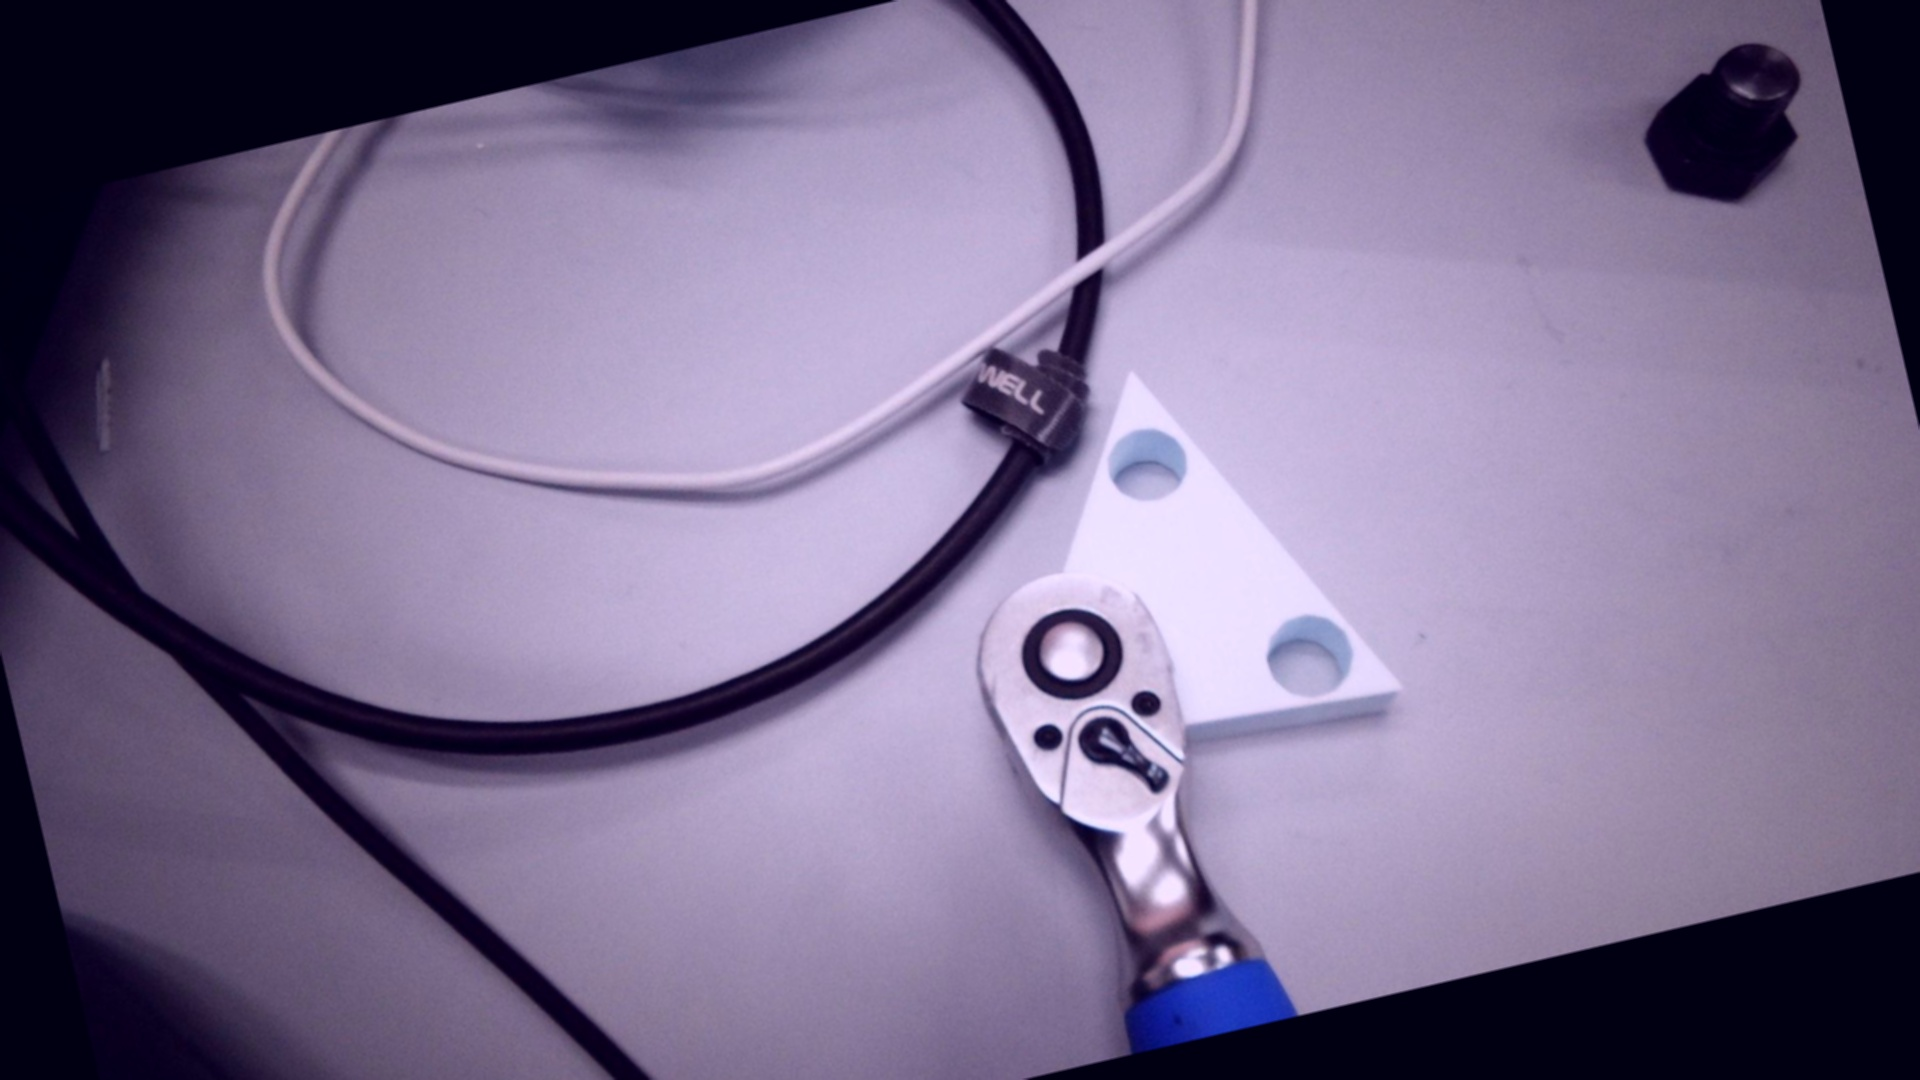hole: (1257, 604, 1362, 708), (1098, 419, 1193, 509)
obj: (1015, 327, 1408, 781)
wrench: (1011, 596, 1133, 708)
